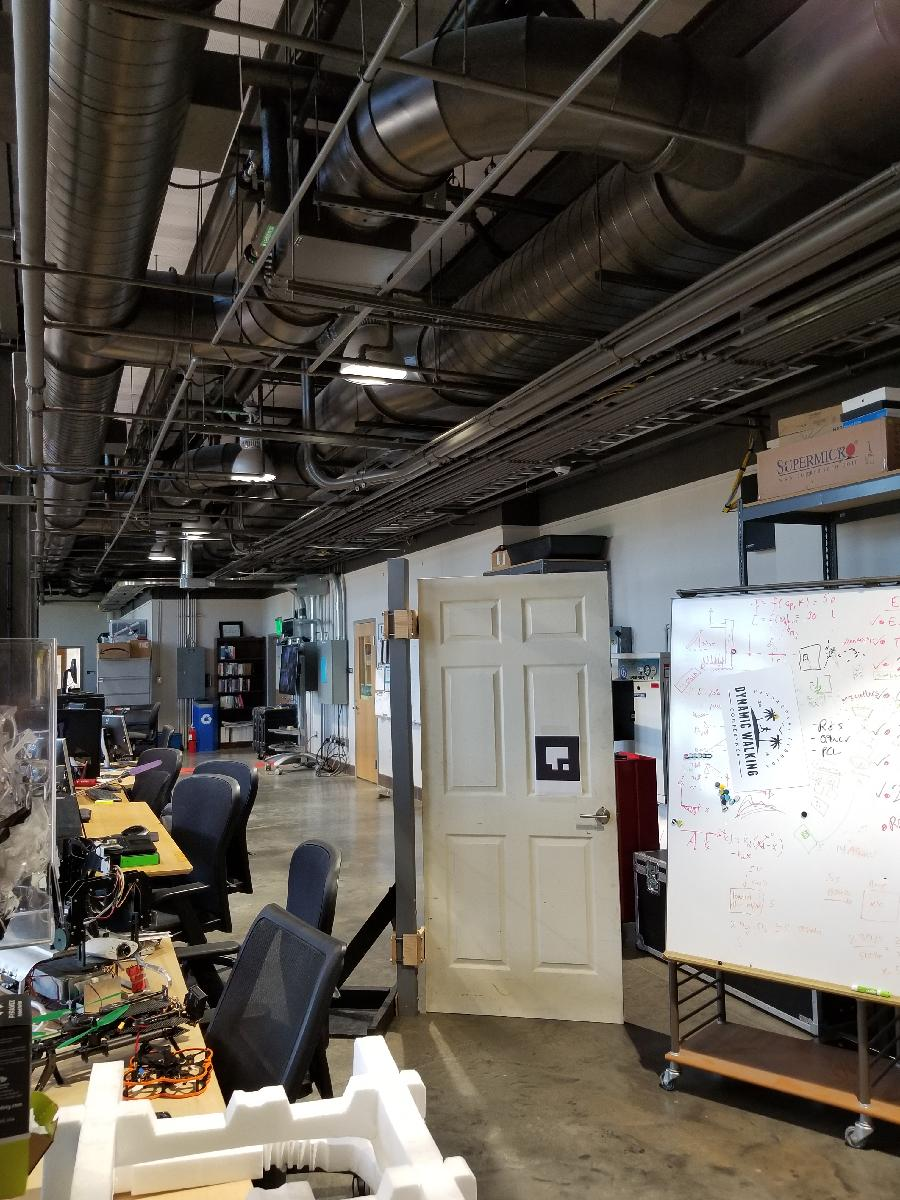door: (413, 568, 629, 1034)
doorHandle: (578, 801, 613, 831)
